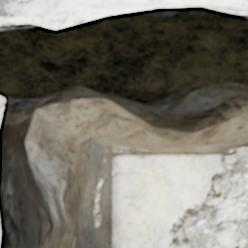brick: (79, 127, 247, 247), (0, 0, 247, 17), (0, 98, 3, 114)
crack: (0, 1, 247, 247)
